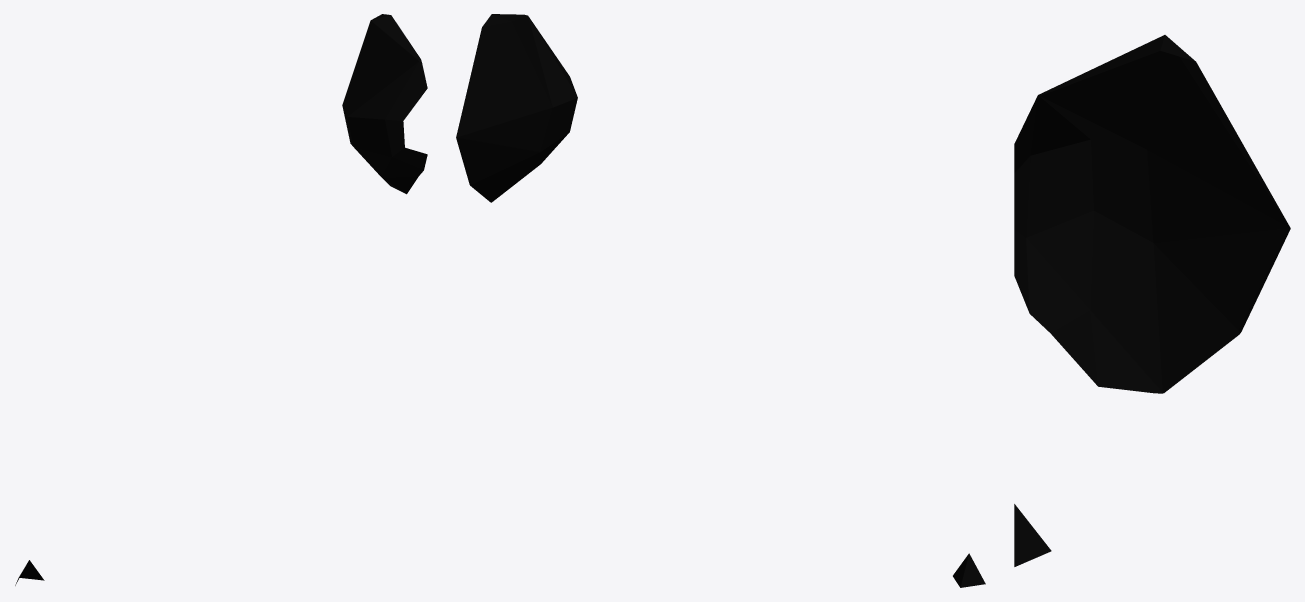
The picture shows the model from 3 angles, left to right: view 1: azimuth 30°, elevation 25°; view 2: azimuth 150°, elevation 25°; view 3: azimuth 270°, elevation 25°; orthographic projection. The views are drawn at different scales.
Bounding box in the file's own units: 2.21 × 2.27 × 0.6388.
1 material, 1 textured.
